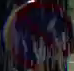No Stopping: (2, 1, 71, 70)
